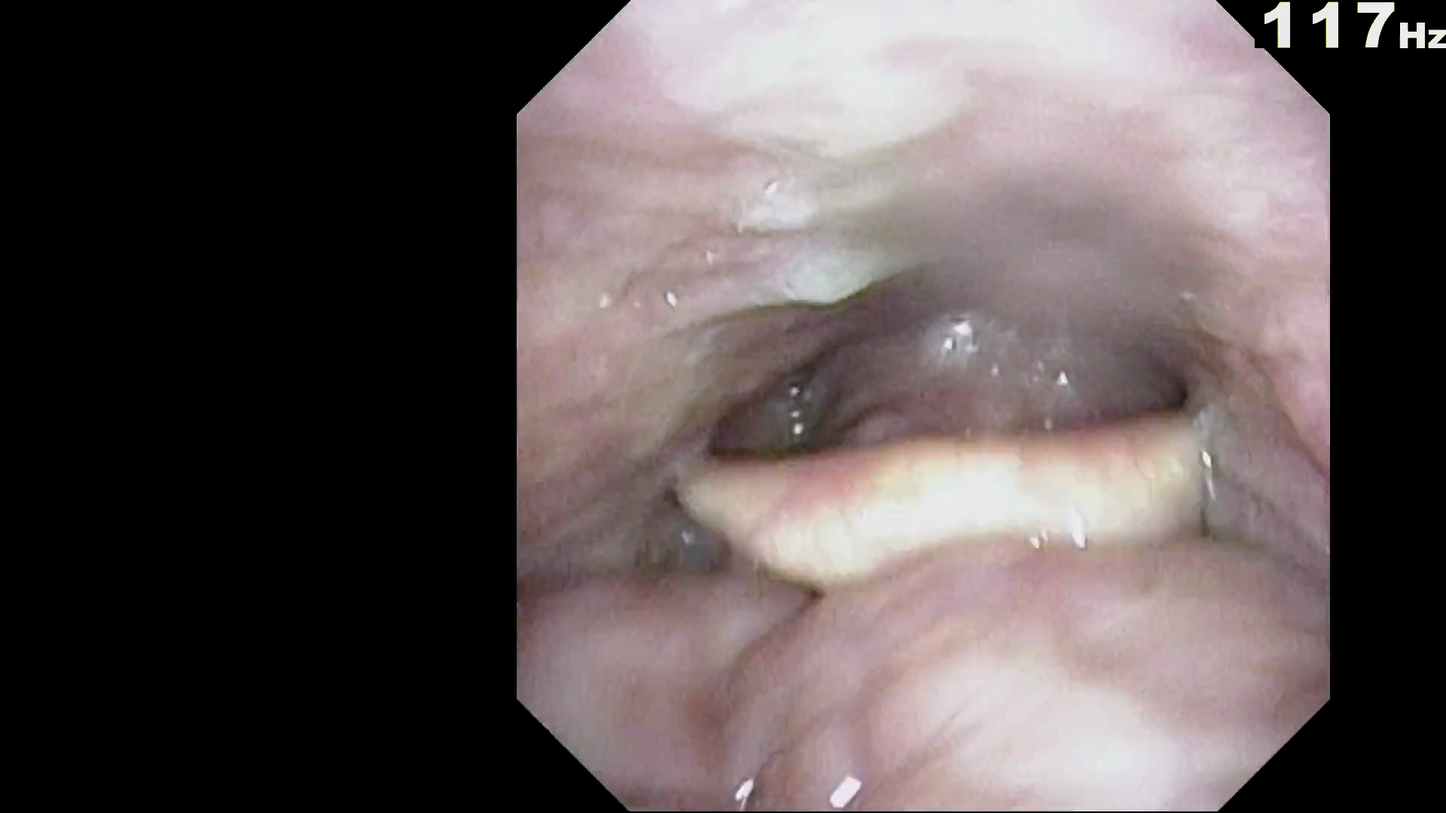epiglottis: (651, 405, 1238, 592)
